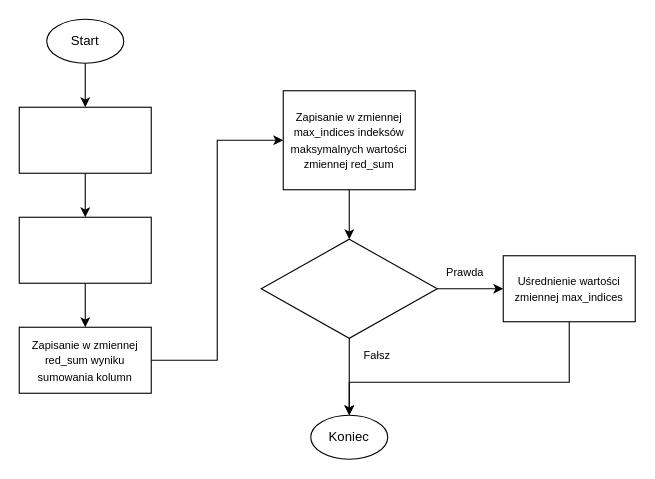
Image size: 655x479. Some labels were removed from this diagram. Each missing label, with the box of its shape:
Ekstrakcja czerwonego koloru i obliczenie różnicy: (18, 216, 151, 283)
Rozmiar max_indices > 1: (260, 238, 437, 338)
Wycięcie ze zdjęć fragmentów [:, 180:250]: (18, 106, 151, 173)
